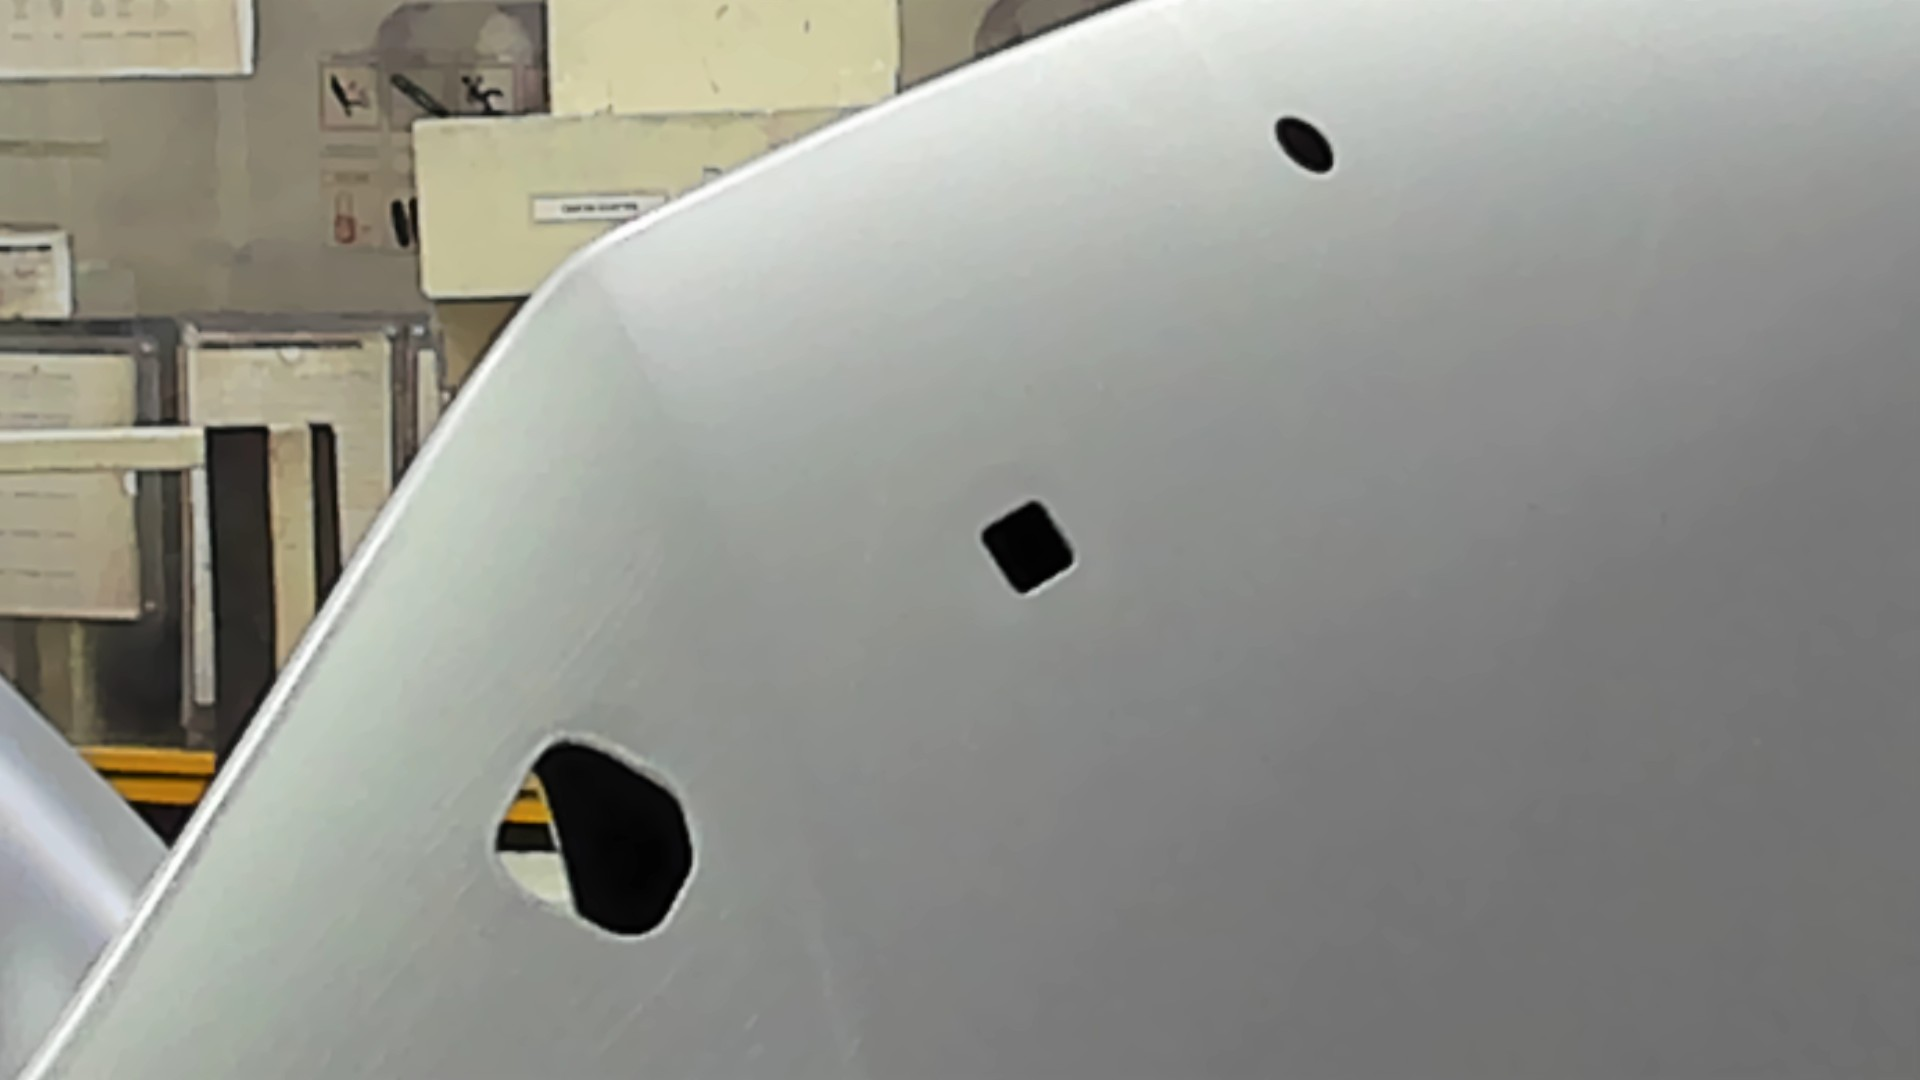chico: (1270, 109, 1342, 181)
grande: (489, 729, 702, 951)
mediano: (975, 488, 1084, 604)
